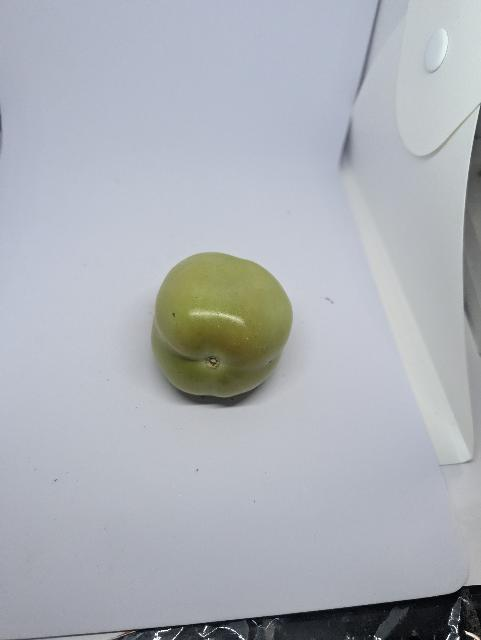green: (147, 248, 295, 401)
